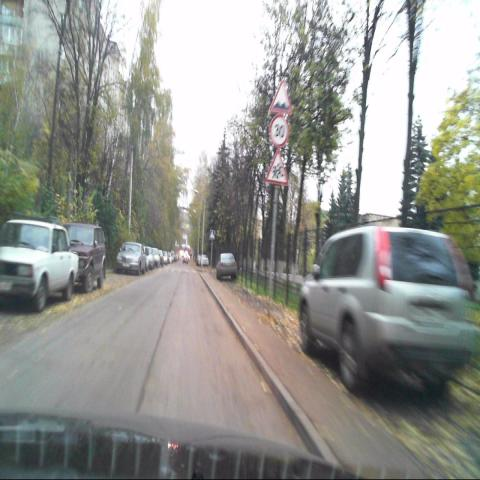3_24: (269, 116, 289, 147)
